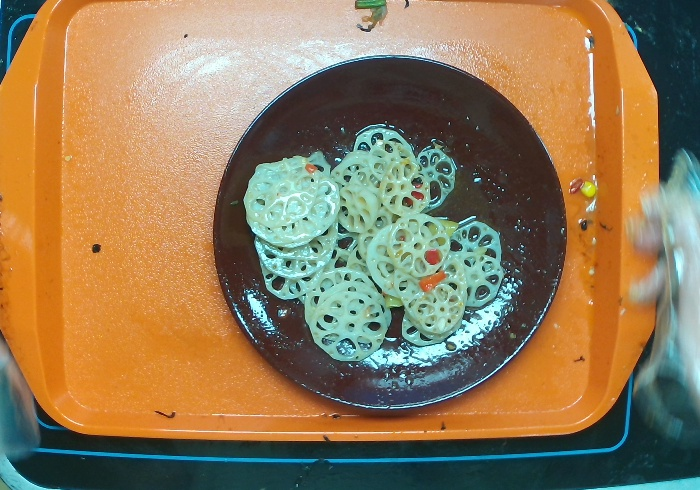HZYJPL-Ka_Fei_Yuan_Pan: (171, 35, 592, 438)
